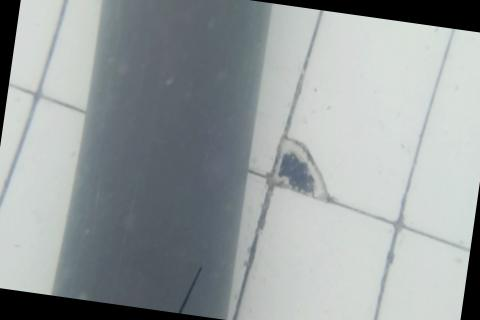keretakan: (175, 263, 203, 315)
